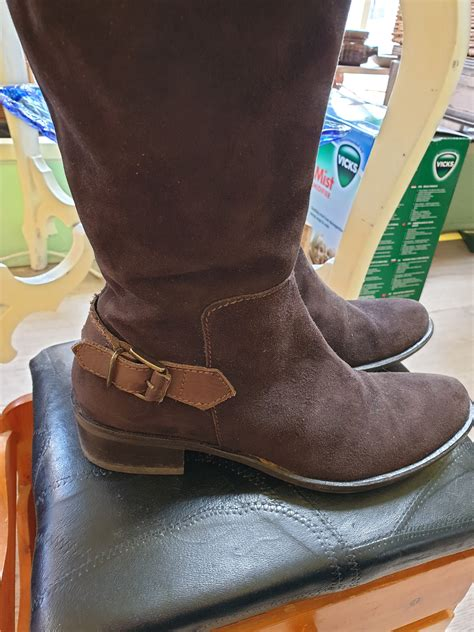gamuza: (4, 1, 469, 480)
